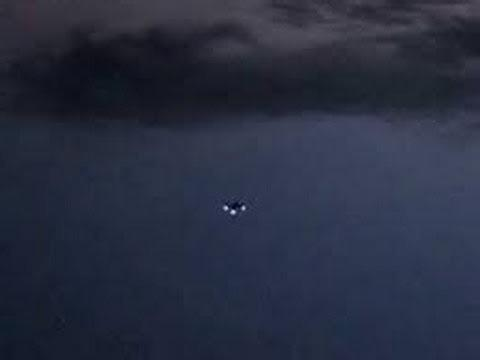Plane: (206, 196, 266, 221)
